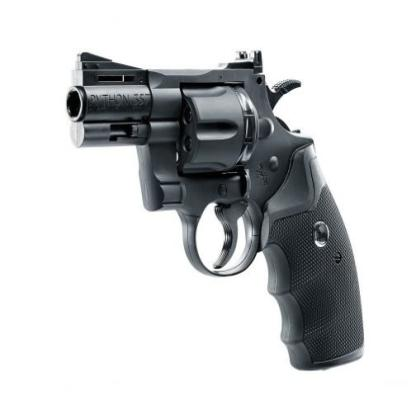handgun: (51, 45, 368, 375)
